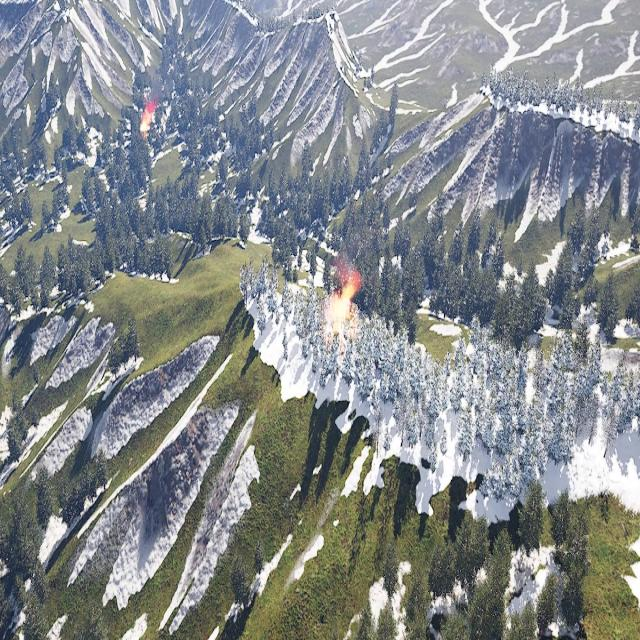fire: (325, 278, 360, 341), (140, 108, 154, 136)
smoke: (330, 247, 364, 286), (142, 67, 162, 107)
